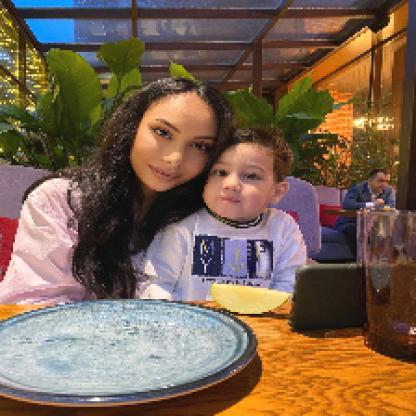child: (132, 124, 309, 300)
